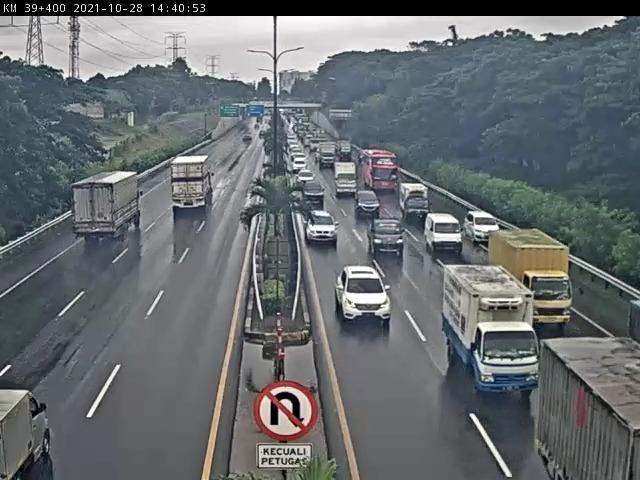car: (335, 265, 395, 326), (424, 213, 467, 257), (367, 219, 407, 256), (463, 210, 503, 244), (305, 207, 339, 244), (353, 190, 382, 217)
truck: (444, 266, 543, 393), (487, 229, 572, 329), (1, 387, 53, 480), (73, 172, 142, 242), (172, 157, 216, 214), (399, 182, 432, 222)
